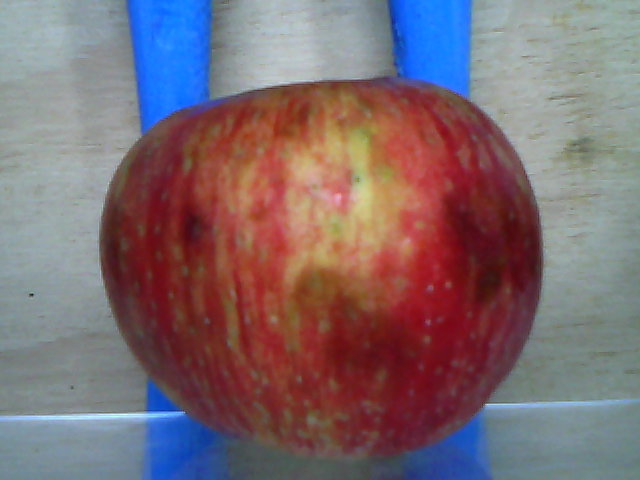bruise: (286, 256, 414, 376), (447, 190, 544, 304)
